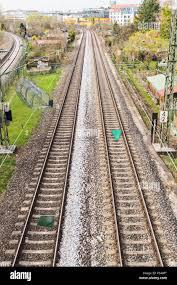Dust_screen: (32, 213, 60, 228), (109, 126, 124, 143)
Green_house: (15, 74, 51, 114)
